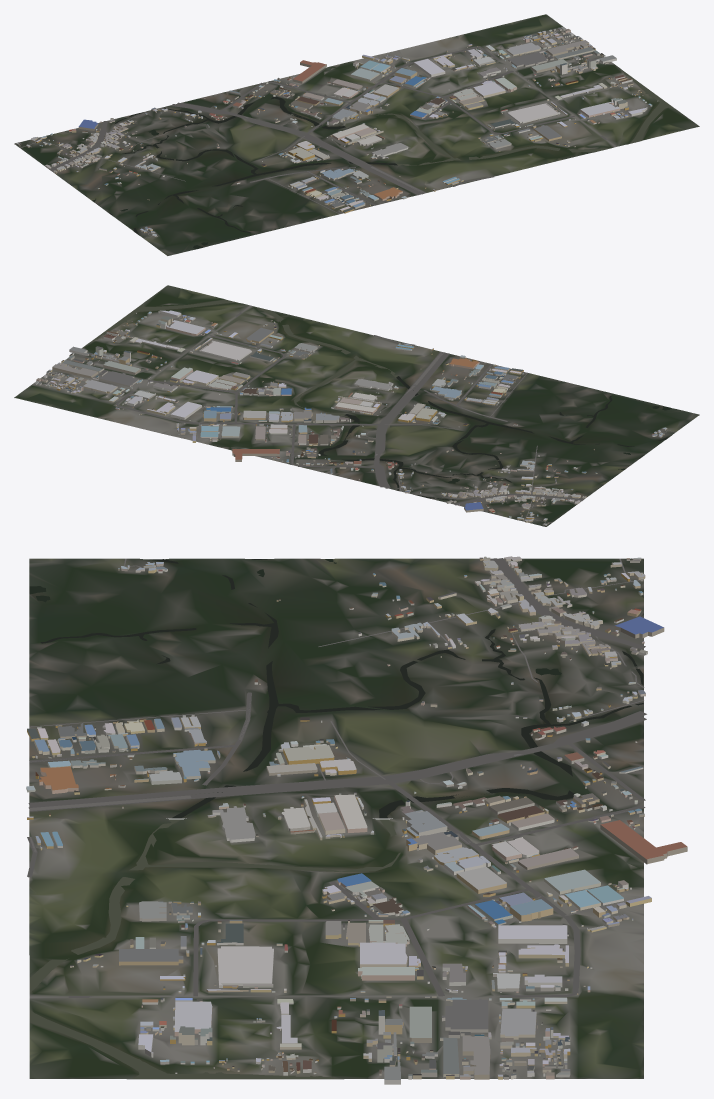
The picture shows the model from 3 angles, top to bottom: view 1: azimuth 30°, elevation 25°; view 2: azimuth 150°, elevation 25°; view 3: azimuth 270°, elevation 25°; orthographic projection. The views are drawn at different scales.
Visible parts, largest first — view 1: ground, buildings, roads, water; view 2: ground, buildings, roads, water; view 3: ground, buildings, roads, water.
Part boxes in pixels (box(x1,y1,x2,y2)): ground: box(14, 14, 699, 255); buildings: box(15, 27, 657, 236); roads: box(20, 46, 615, 238); water: box(92, 70, 673, 249); ground: box(14, 285, 699, 526); buildings: box(34, 310, 667, 526); roads: box(116, 305, 675, 522); water: box(91, 300, 671, 500); ground: box(29, 558, 643, 1079); buildings: box(26, 556, 687, 1084); roads: box(27, 558, 646, 997); water: box(29, 559, 643, 1078).
Bounding box in the file's own units: 2834 × 51.89 × 1507.
